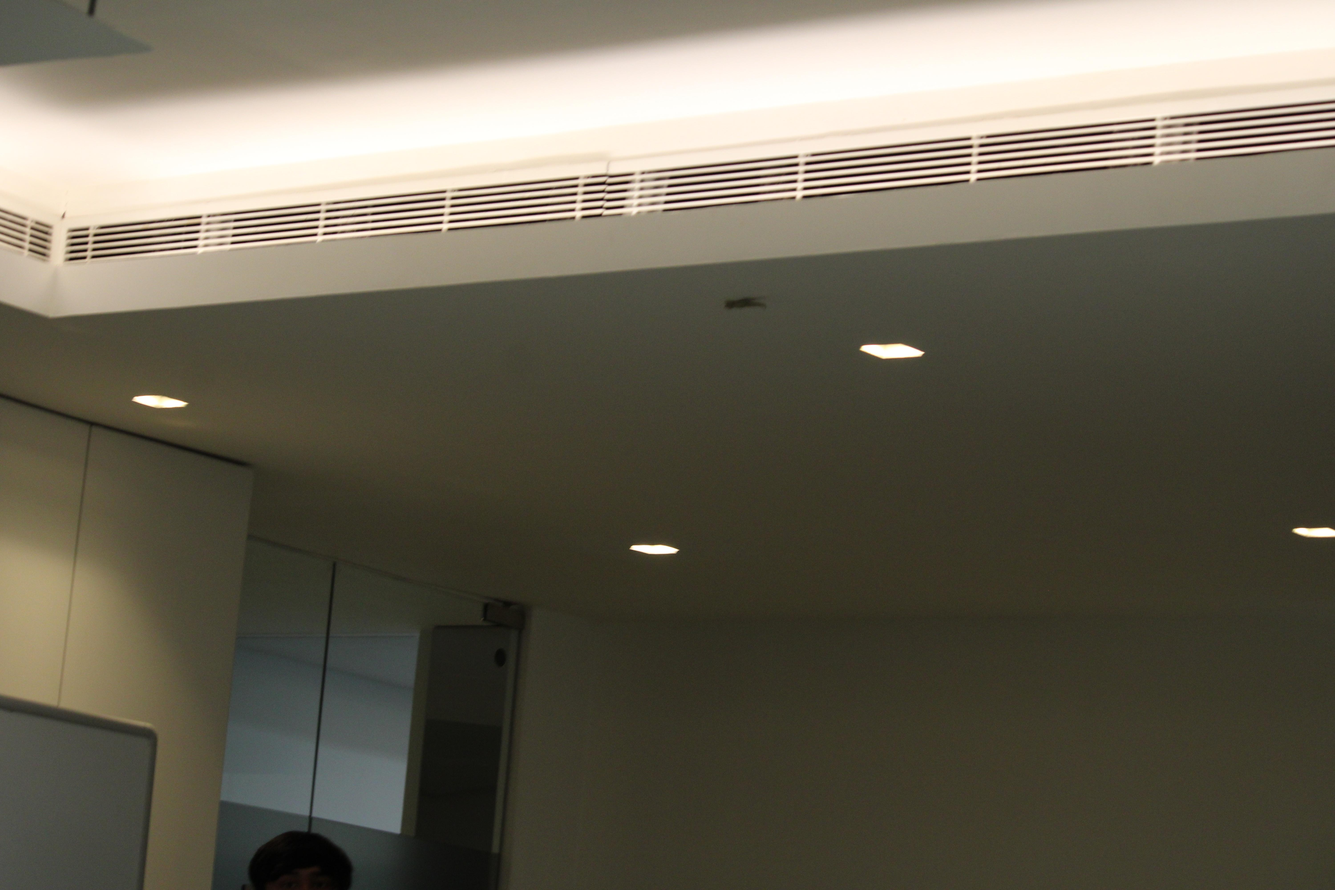lizard: (717, 283, 775, 321)
